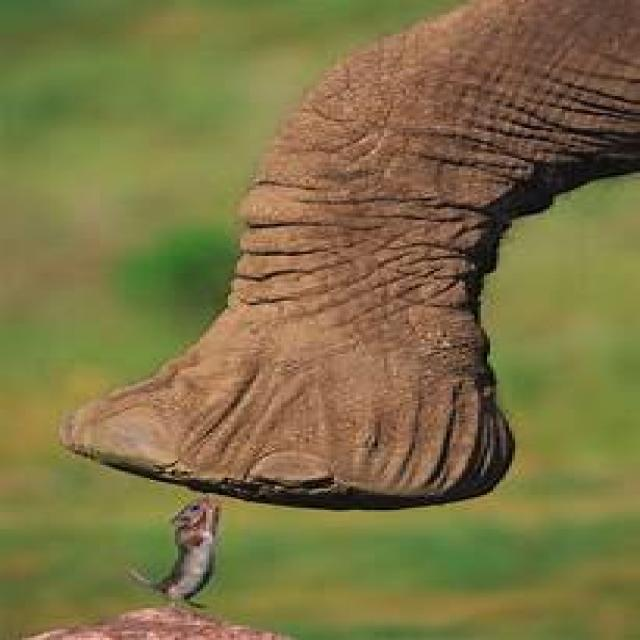elephant: (59, 0, 640, 514)
